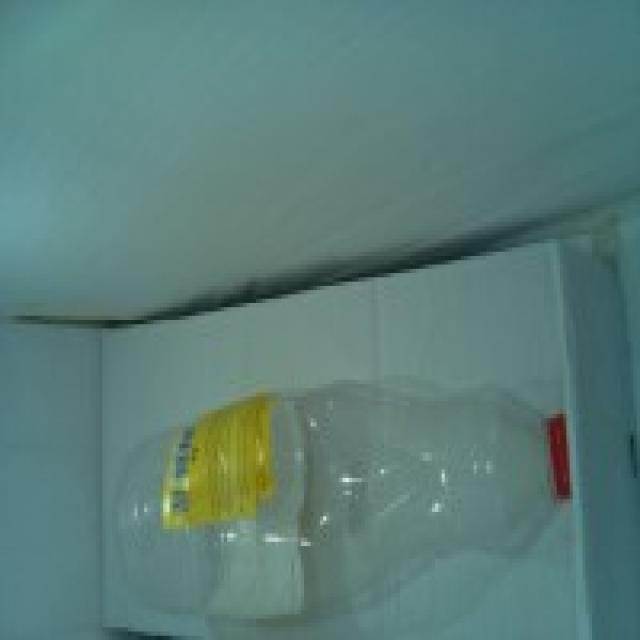Anorganik: (106, 363, 579, 627)
